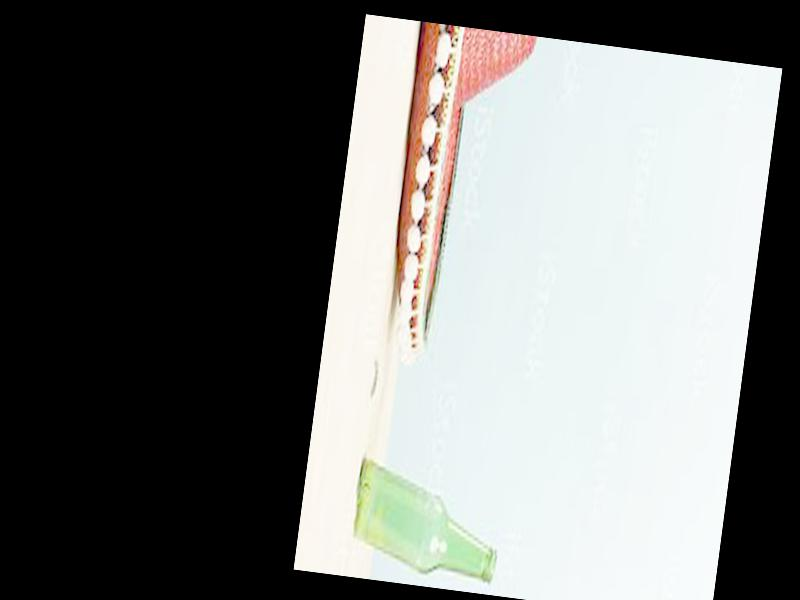Beer: (345, 454, 508, 580)
